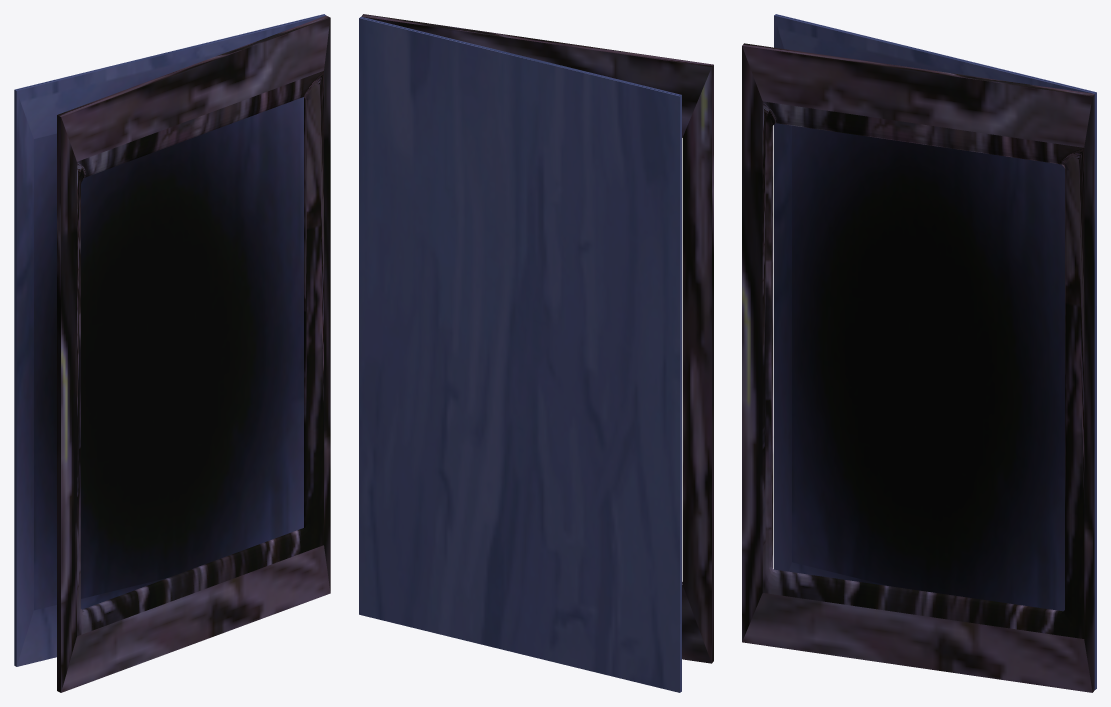
Rendered from Gakubuchi2_tex.fbx.
3 views of the same model, side by side, from view 1: azimuth 30°, elevation 25°; view 2: azimuth 150°, elevation 25°; view 3: azimuth 330°, elevation 25° (orthographic). The views are drawn at different scales.
Visible parts, largest first — view 1: Back, Front; view 2: Back, Front; view 3: Back, Front.
Boxes of the visible parts, x1=… form: Back: x1=14, y1=14, x2=325, y2=666; Front: x1=57, y1=15, x2=330, y2=692; Back: x1=359, y1=16, x2=681, y2=692; Front: x1=361, y1=14, x2=713, y2=663; Back: x1=774, y1=14, x2=1096, y2=689; Front: x1=742, y1=43, x2=1094, y2=692.
Bounding box in the file's own units: 86.7 × 19.2 × 153.
1 material, 1 textured.
